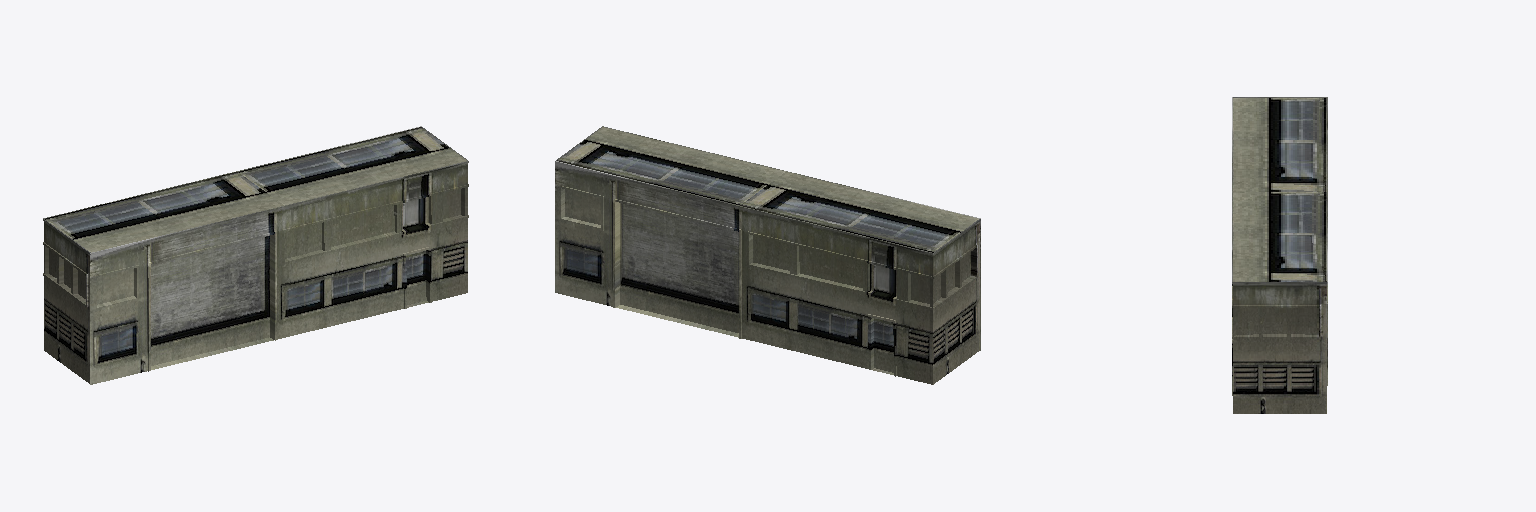
The picture shows the model from 3 angles: view 1: azimuth 30°, elevation 25°; view 2: azimuth 150°, elevation 25°; view 3: azimuth 270°, elevation 25°; orthographic projection.
Parts seen in each view (by area): view 1: Plane01; view 2: Plane01; view 3: Plane01.
Part boxes in pixels (left/top/right/bottom): Plane01: left=43, top=126, right=468, bottom=384; Plane01: left=555, top=126, right=980, bottom=384; Plane01: left=1232, top=97, right=1327, bottom=413.
Bounding box in the file's own units: 3214 × 1071 × 704.
1 materials, 1 textured.